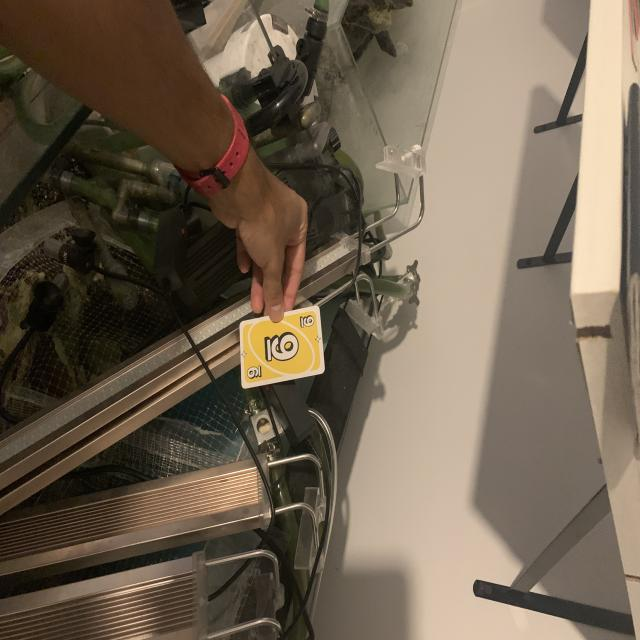lyellow-9: (297, 313, 316, 331)
